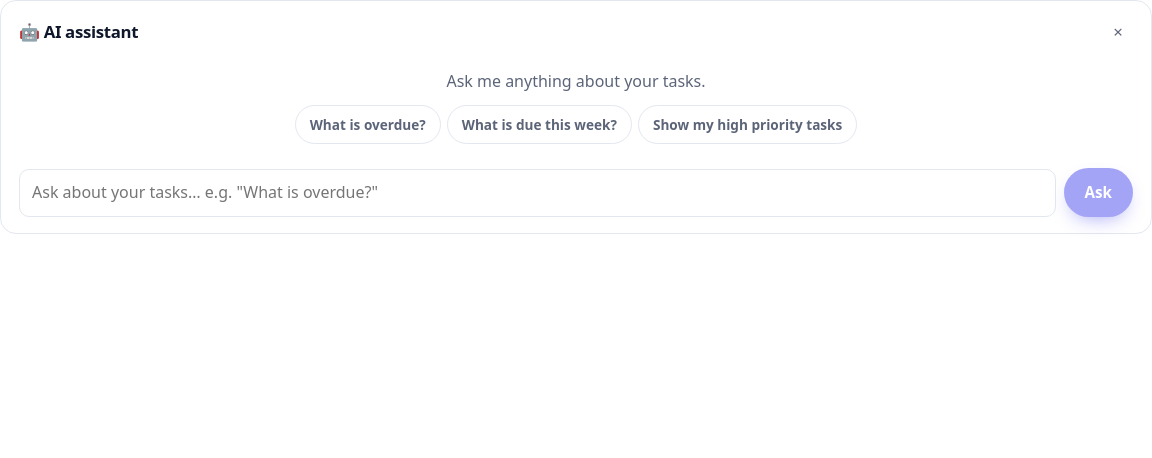
Test: AssistantPanel › asks a suggested question, shows the answer and opens a linked task
The image size is (1152, 458).
Click the button "What is overdue?" at (368, 124), box x1=295 y1=105 x2=441 y2=144
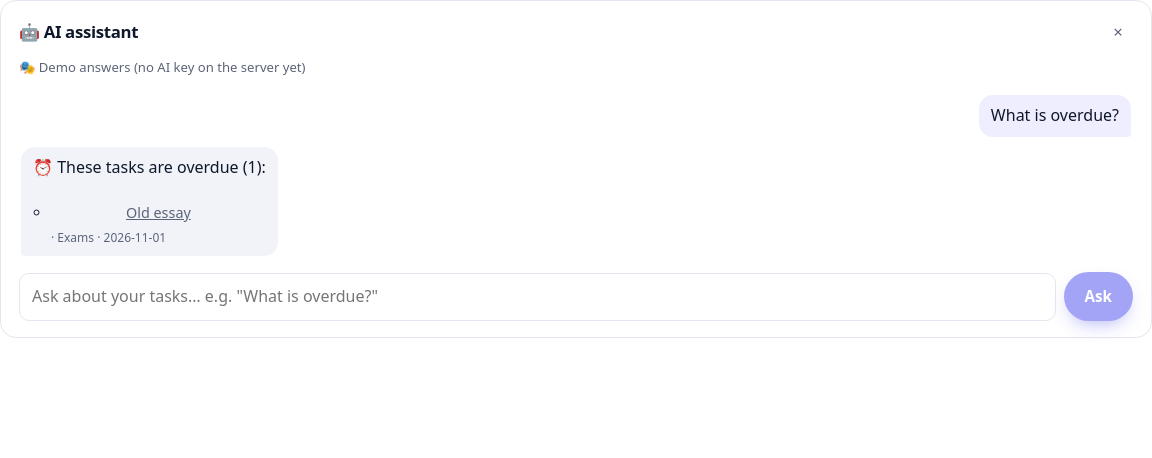
Result: the text "⏰ These tasks are overdue (1):" is shown at x1=33 y1=155 x2=266 y2=180
Result: the text "🎭 Demo answers (no AI key on the server yet)" is shown at x1=19 y1=58 x2=306 y2=76
Click the button "Old essay" at (158, 213), box x1=120 y1=200 x2=197 y2=225
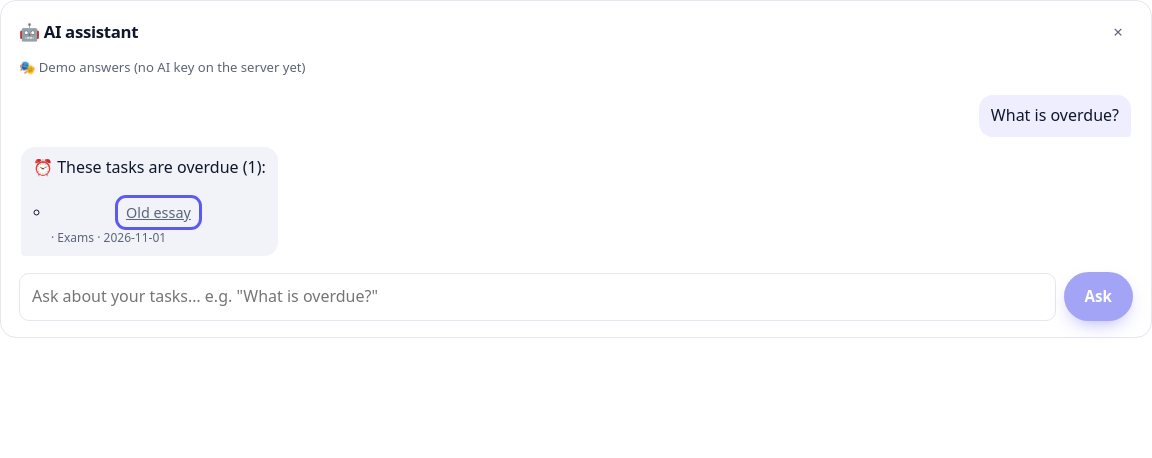
// Follow-up: munnaadi pesinadhu history ah pogum
Type "anything else?" into the field labelled "Ask about your tasks… e.g. \"What is overdue?\"" at (537, 297), box x1=19 y1=273 x2=1056 y2=321
Then press Enter
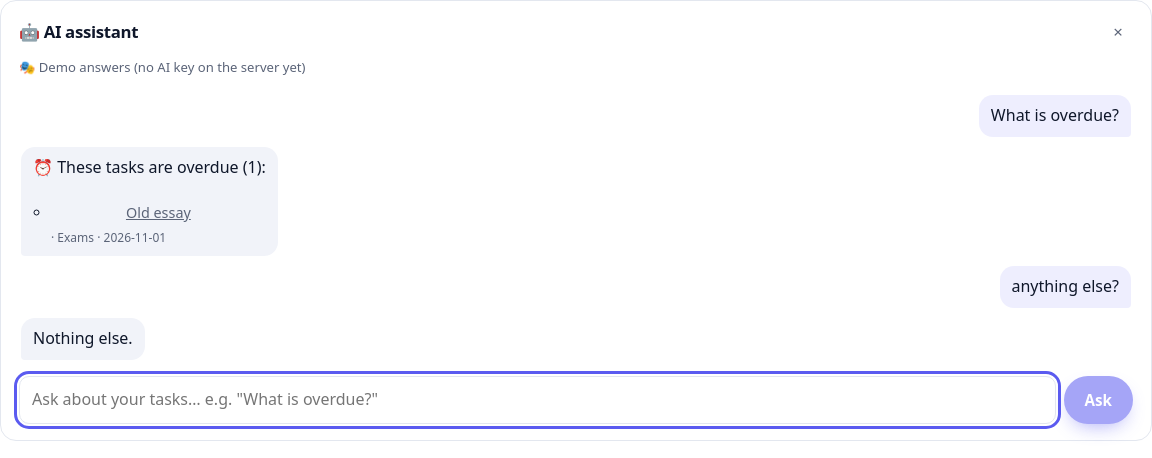
Result: the text "Nothing else." is shown at x1=33 y1=326 x2=133 y2=352
